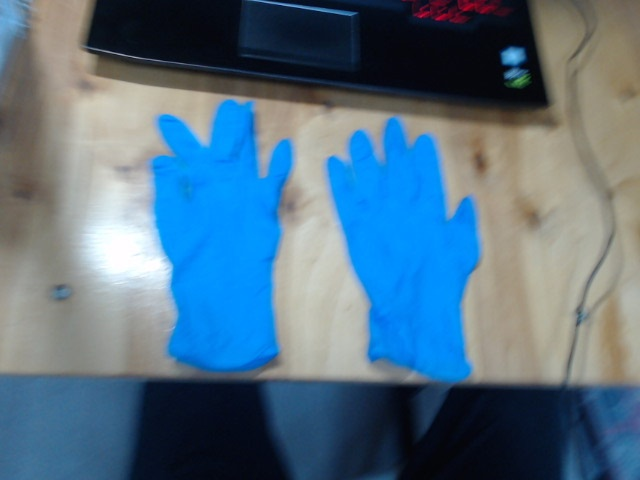medical_glove: (327, 117, 477, 377), (151, 98, 293, 369)
